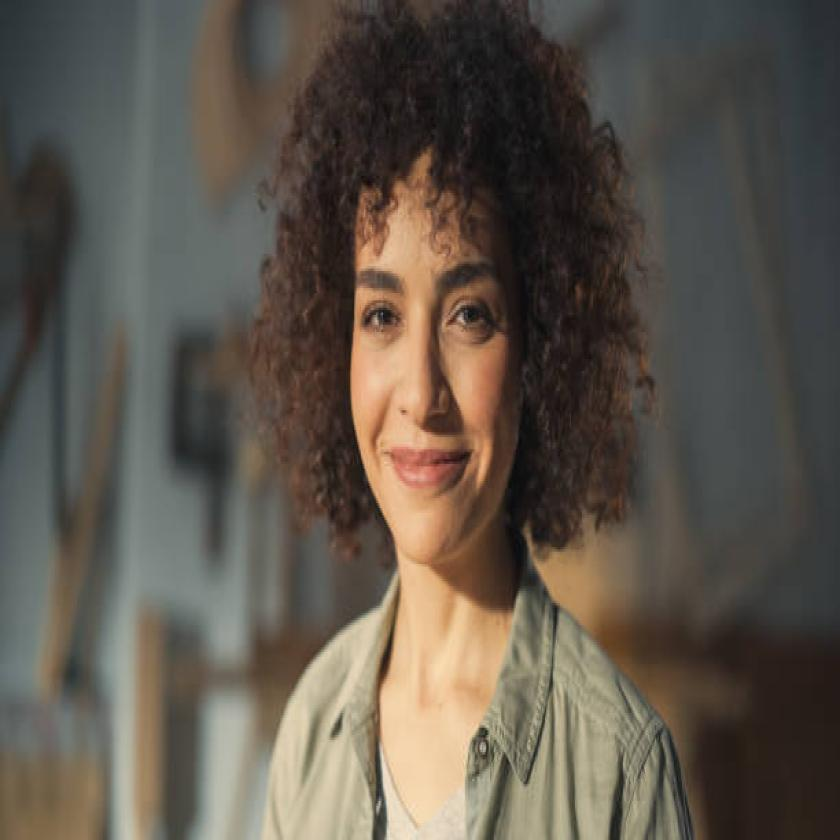Sin_casco: (312, 0, 594, 613)
